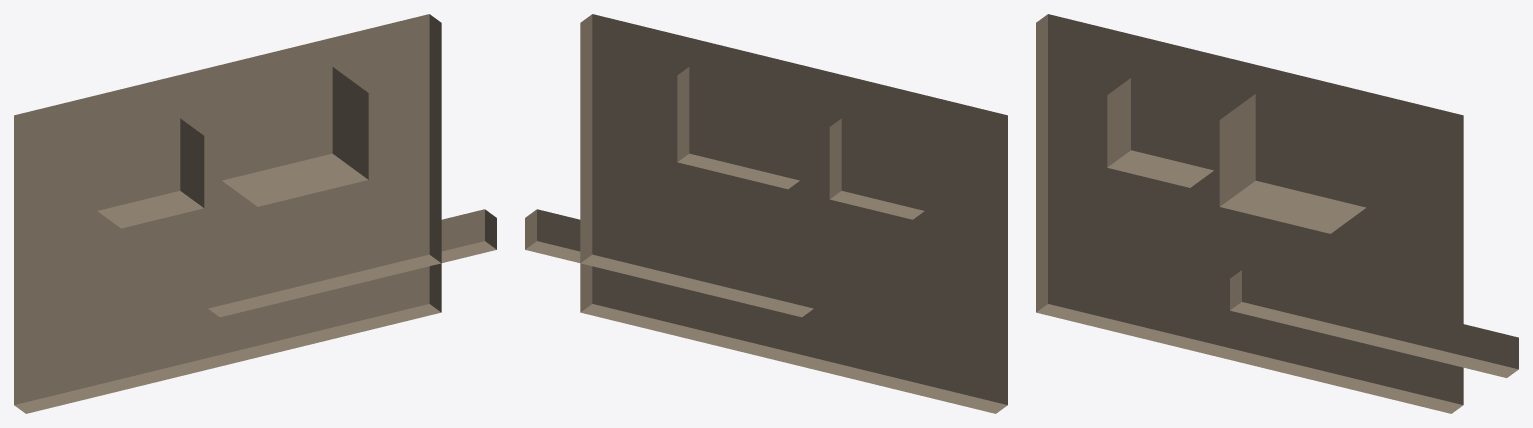
The model's file is SM_GalleonCove_Alpha.gltf.
3 views of the same model, side by side, from view 1: azimuth 30°, elevation 25°; view 2: azimuth 150°, elevation 25°; view 3: azimuth 330°, elevation 25° (orthographic).
Visible parts, largest first — view 1: SM_GalleonCove_Alpha; view 2: SM_GalleonCove_Alpha; view 3: SM_GalleonCove_Alpha.
Boxes of the visible parts, left/top/right/bottom form: SM_GalleonCove_Alpha: left=14, top=14, right=496, bottom=413; SM_GalleonCove_Alpha: left=525, top=14, right=1007, bottom=413; SM_GalleonCove_Alpha: left=1036, top=14, right=1518, bottom=413.
Size of the model in its own units: 6.8 by 4 by 0.9.
